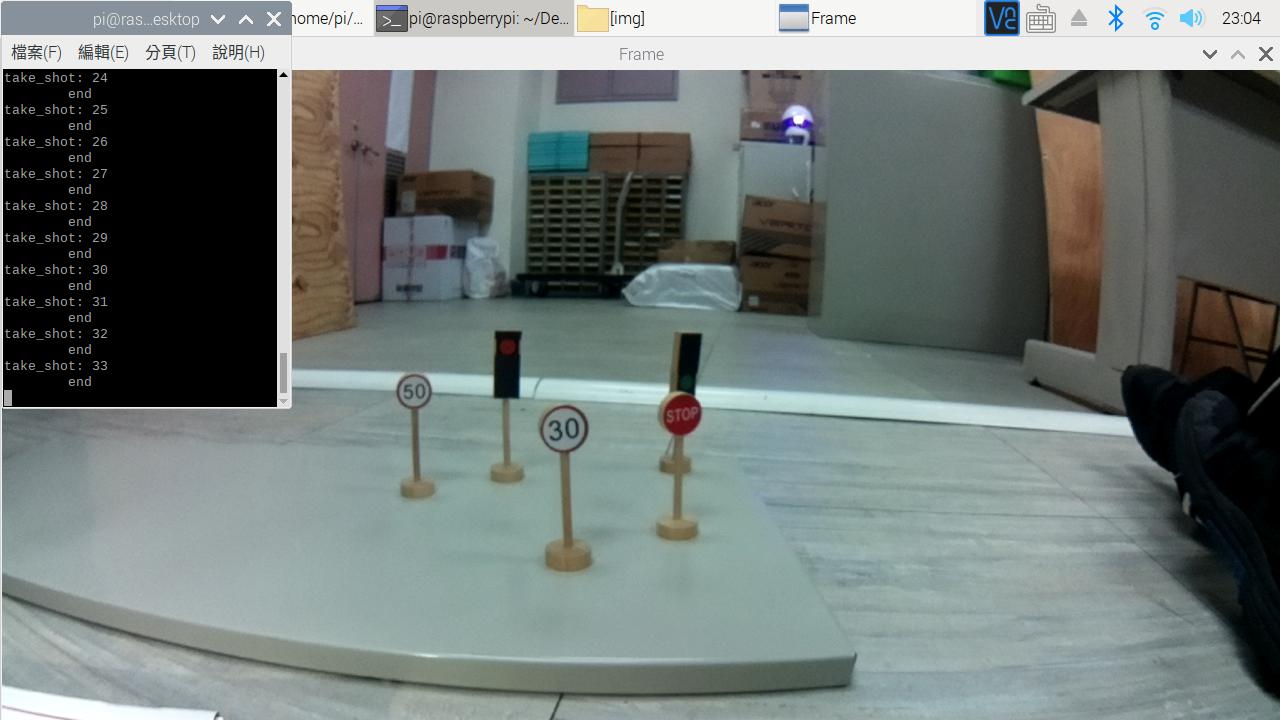Green: (674, 325, 702, 401)
Red: (488, 326, 524, 399)
Speed30: (535, 407, 593, 452)
Speed50: (394, 374, 433, 405)
Stop: (659, 395, 701, 430)
